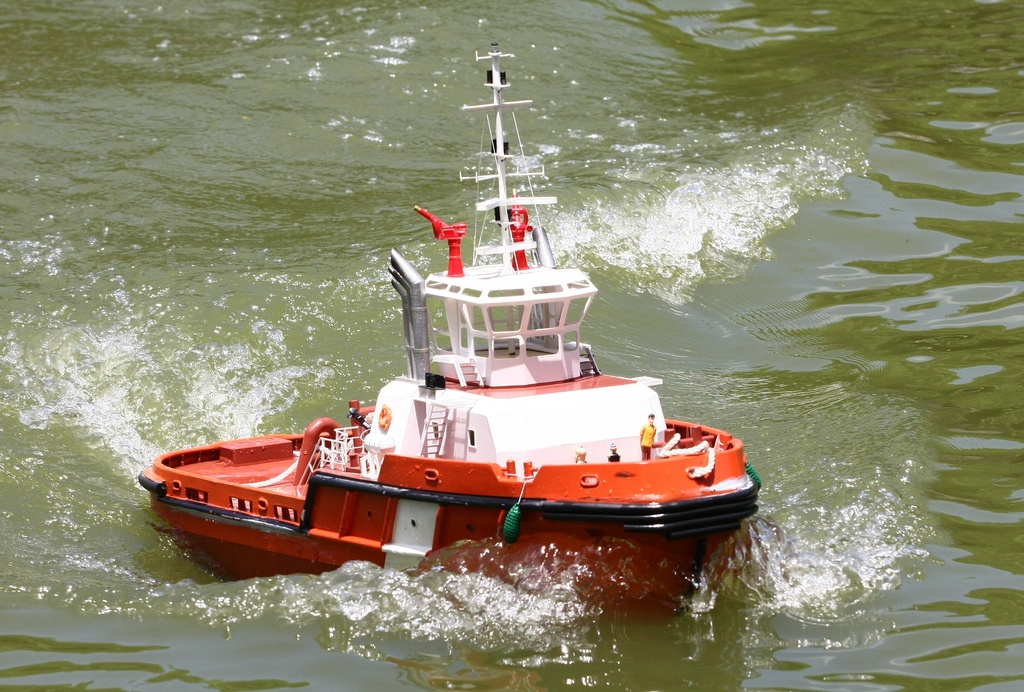otherboat: (148, 207, 756, 623)
